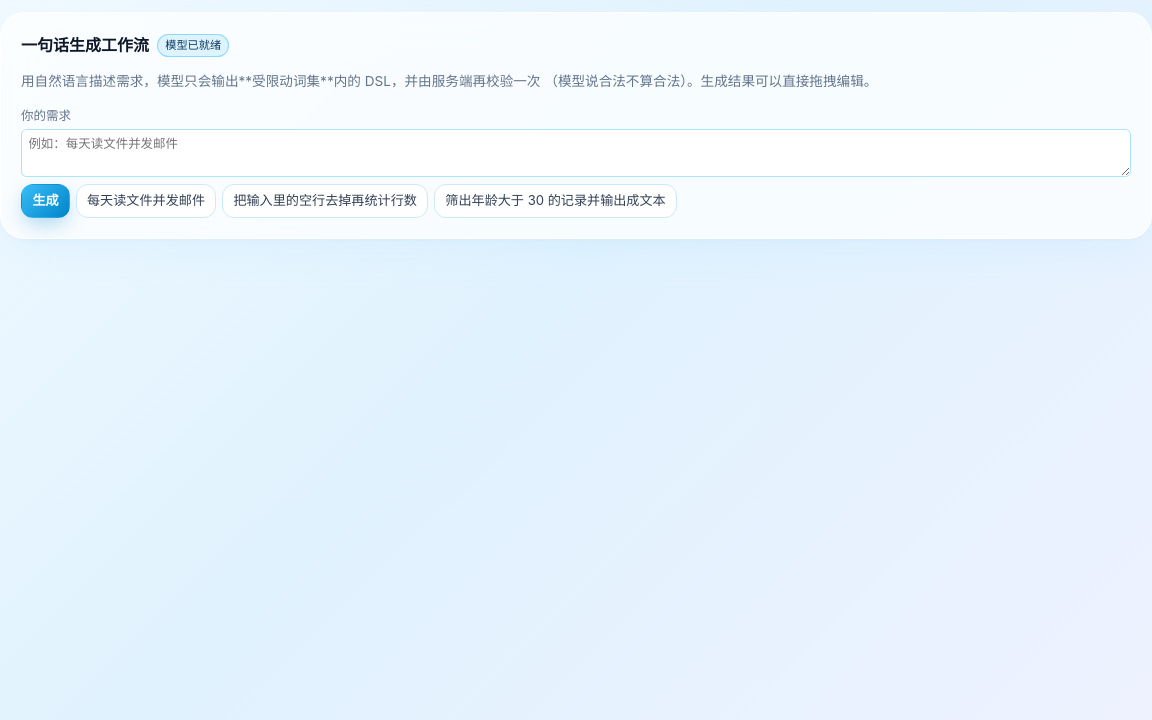
Test: GeneratePanel 一句话生成 · 诚实契约 › 503 未配置模型：显示真实错误 + 配置指引，绝不伪造成功
expect the text "模型已就绪" is shown: met, box x1=157 y1=34 x2=229 y2=57
Type "每天读文件并发邮件" into the text box with test id "flow-generate-prompt". click: [576, 153]
box: x1=21 y1=129 x2=1131 y2=177
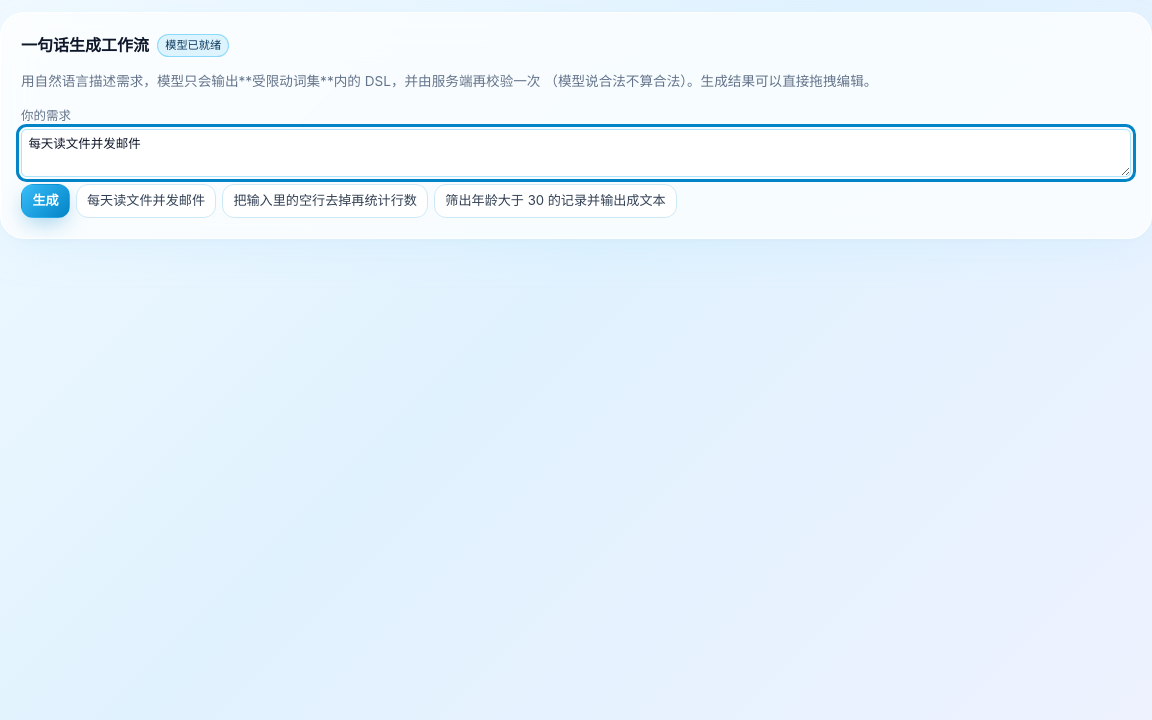
Click the button with test id "flow-generate-run". click: [46, 201]
box: x1=21 y1=184 x2=70 y2=218
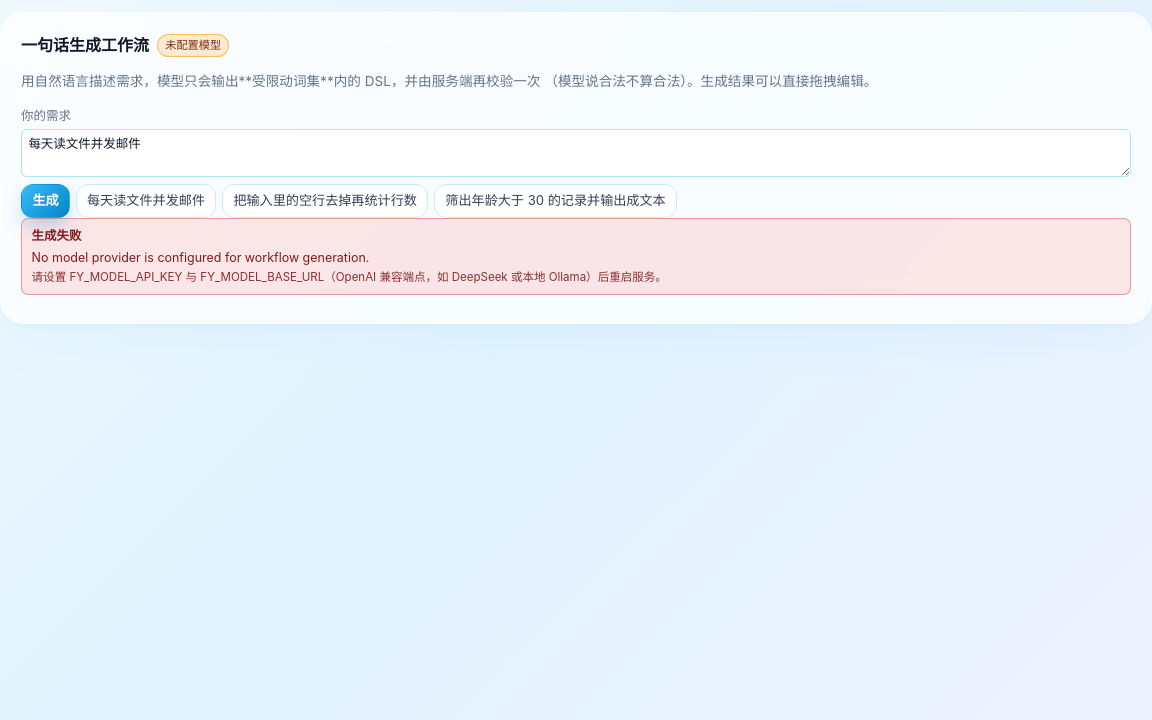
expect the message with test id "flow-generate-error" shows "No model provider is configured": met, box x1=32 y1=250 x2=369 y2=264
expect the message with test id "flow-generate-error" shows "FY_MODEL_API_KEY": met, box x1=32 y1=270 x2=667 y2=284
expect the text with test id "flow-model-state" reads "未配置模型": met, box x1=165 y1=38 x2=221 y2=52
